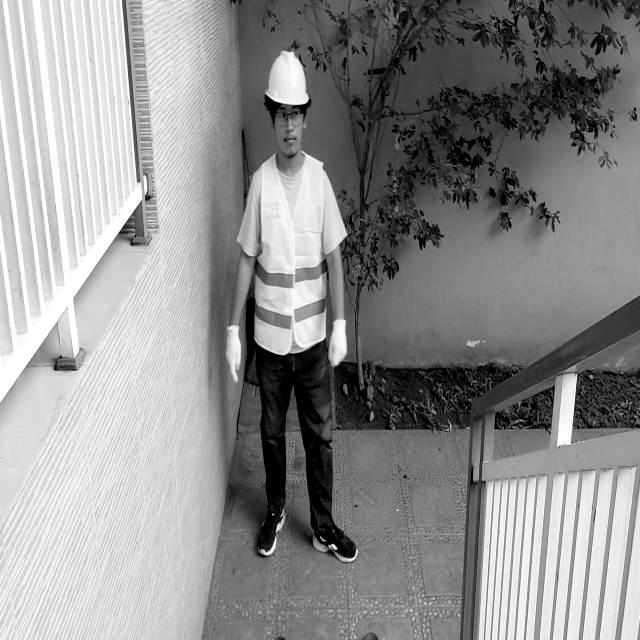No-Boots: (311, 518, 364, 566), (254, 504, 290, 562)
Vest: (248, 157, 333, 356)
